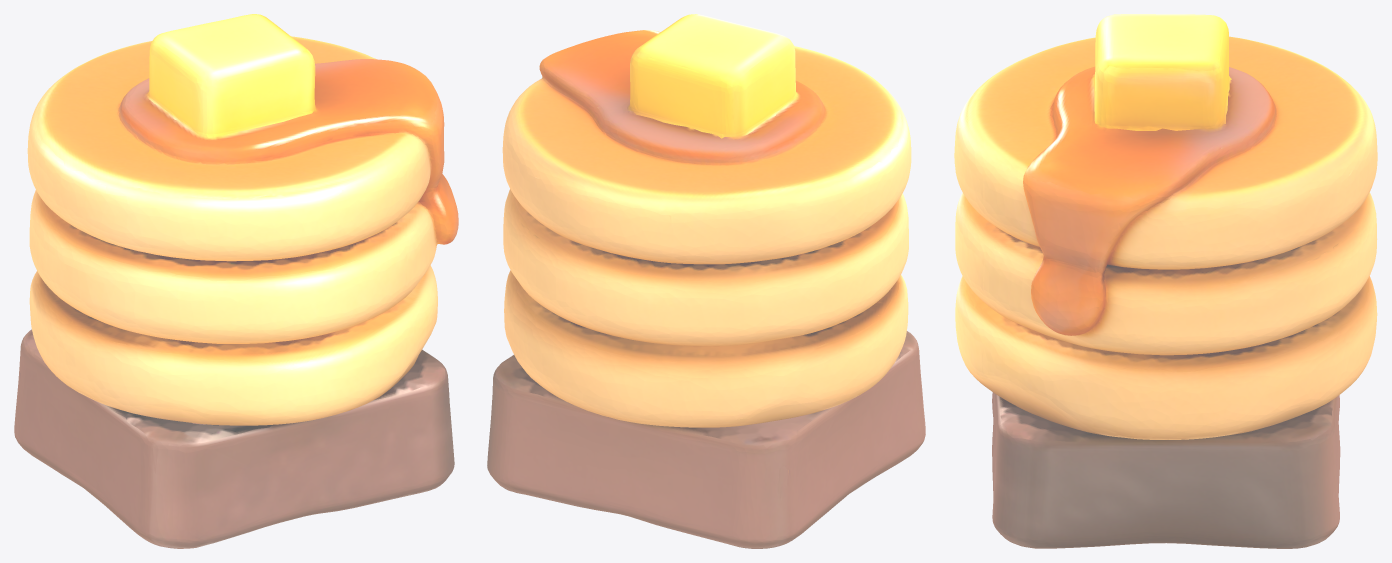
The model's file is PancakeTexturedBright.glb.
3 renders of one model, left to right at view 1: azimuth 30°, elevation 25°; view 2: azimuth 150°, elevation 25°; view 3: azimuth 270°, elevation 25°, orthographic. The views are drawn at different scales.
Parts seen in each view (by area): view 1: tmpngofuaoe.ply; view 2: tmpngofuaoe.ply; view 3: tmpngofuaoe.ply.
Boxes of the visible parts, x1,y1,x2,y2 form: tmpngofuaoe.ply: (14, 14, 458, 548); tmpngofuaoe.ply: (487, 14, 925, 548); tmpngofuaoe.ply: (954, 14, 1377, 548).
Size of the model in its own units: 1.74 by 1.96 by 1.72.
1 material, 1 textured.
